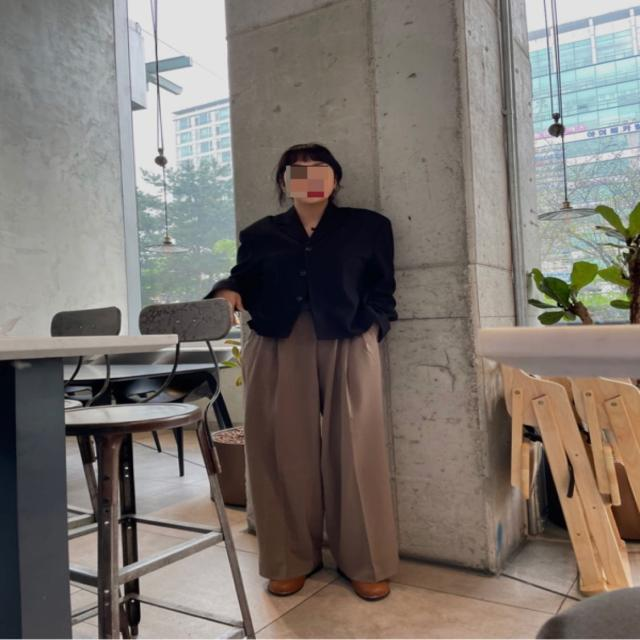blazer: (219, 204, 396, 344)
slacks: (239, 303, 397, 584)
